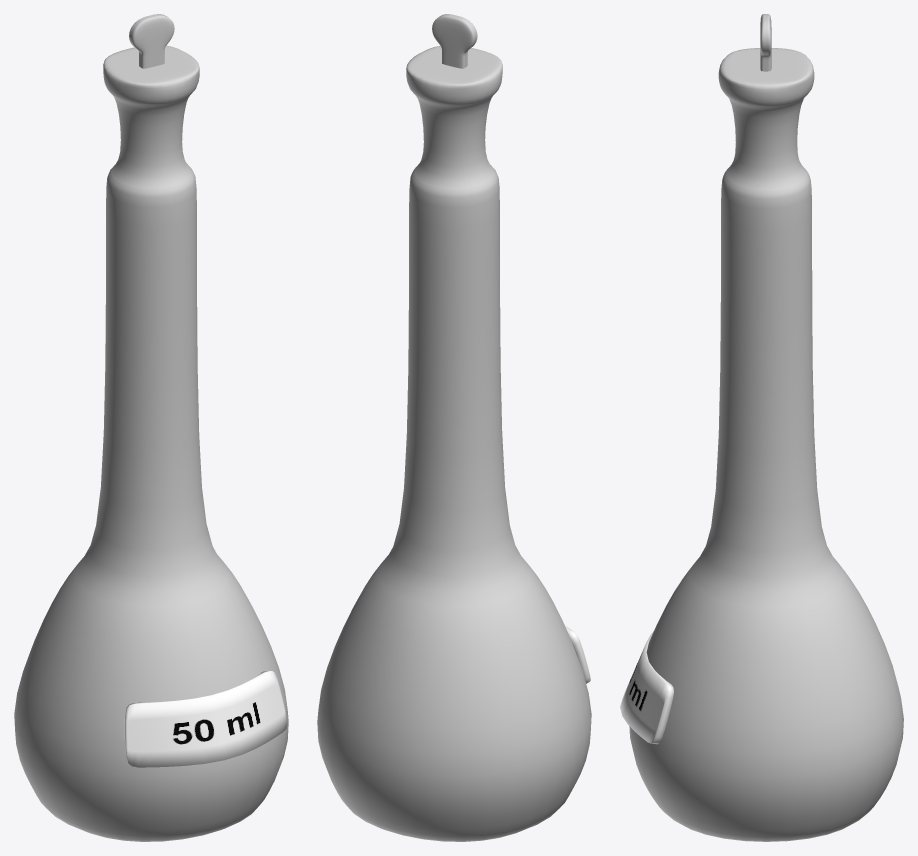
Rendered from Labu takar 50ml.fbx.
The picture shows the model from 3 angles, left to right: view 1: azimuth 30°, elevation 25°; view 2: azimuth 150°, elevation 25°; view 3: azimuth 270°, elevation 25°; orthographic projection.
Parts seen in each view (by area): view 1: Cube.061, Cube.109; view 2: Cube.061; view 3: Cube.061, Cube.109.
Boxes of the visible parts, x1,y1,x2,y2 form: Cube.061: [14, 14, 288, 841]; Cube.109: [124, 671, 287, 767]; Cube.061: [317, 14, 591, 841]; Cube.061: [629, 14, 903, 841]; Cube.109: [620, 631, 673, 744].
Bounding box in the file's own units: 3.48 × 10.99 × 3.6.
2 materials, 1 textured.
